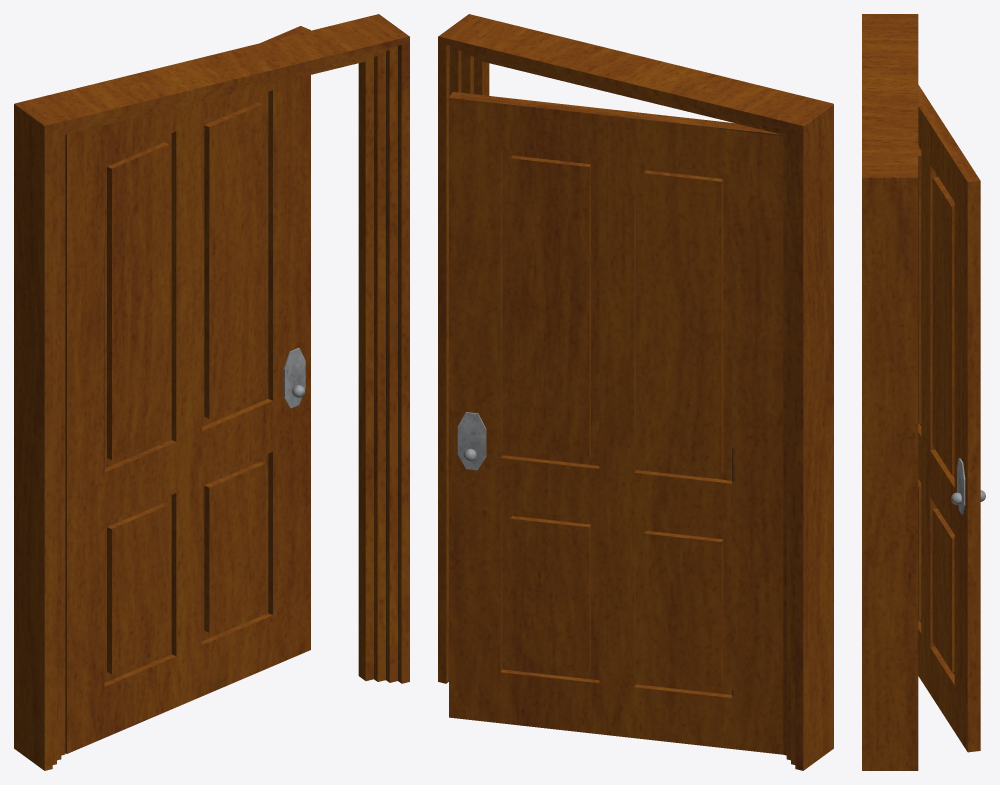
The model's file is interior_door_02.glb.
The picture shows the model from 3 angles, left to right: view 1: azimuth 30°, elevation 25°; view 2: azimuth 150°, elevation 25°; view 3: azimuth 270°, elevation 25°; orthographic projection. The views are drawn at different scales.
Parts seen in each view (by area): view 1: Door (Low), Frame, Handle (Low); view 2: Door (Low), Frame, Handle (Low); view 3: Frame, Door (Low), Handle (Low).
Part boxes in pixels (bbox=[...]): Door (Low): bbox=[65, 26, 310, 753]; Frame: bbox=[14, 14, 409, 770]; Handle (Low): bbox=[283, 348, 305, 408]; Door (Low): bbox=[449, 92, 783, 754]; Frame: bbox=[438, 14, 833, 770]; Handle (Low): bbox=[457, 412, 486, 470]; Frame: bbox=[862, 14, 918, 770]; Door (Low): bbox=[918, 85, 980, 752]; Handle (Low): bbox=[957, 458, 965, 514].
Size of the model in its own units: 5.43 by 9.17 by 1.73.
1 material, 1 textured.
